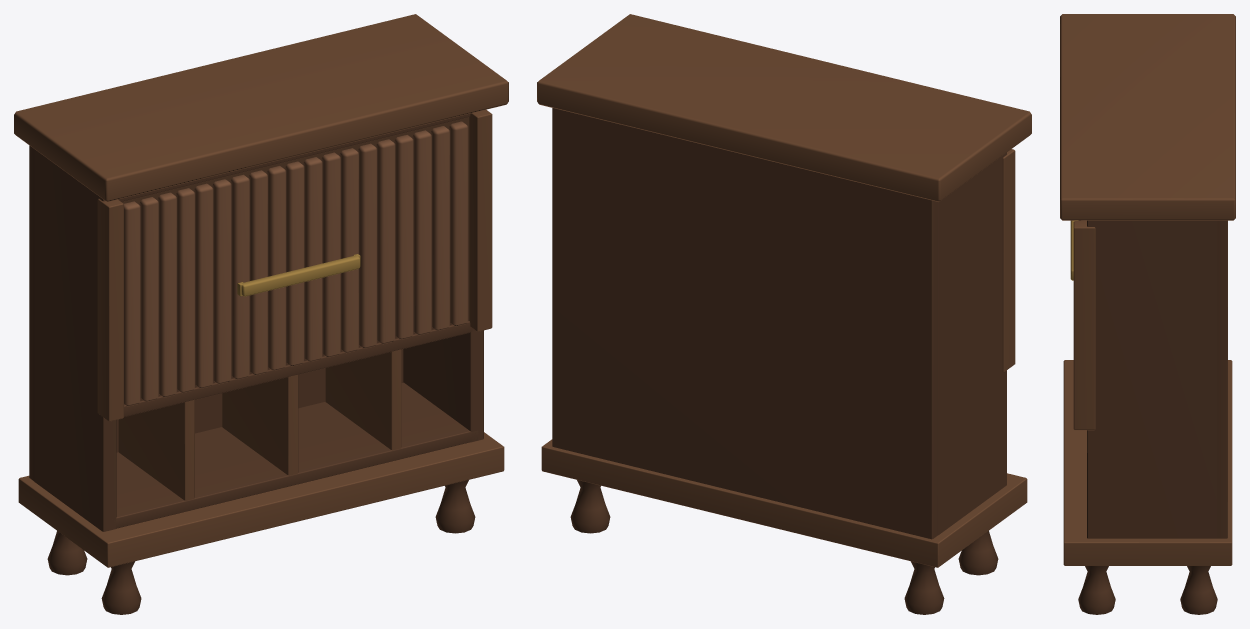
Rendered from rpg-mansion-tambour-music-01.glb.
3 views of the same model, side by side, from view 1: azimuth 30°, elevation 25°; view 2: azimuth 150°, elevation 25°; view 3: azimuth 270°, elevation 25° (orthographic). The views are drawn at different scales.
Parts seen in each view (by area): view 1: rpg-mansion-tambour-music-01; view 2: rpg-mansion-tambour-music-01; view 3: rpg-mansion-tambour-music-01.
Part boxes in pixels (left/top/right/bottom): rpg-mansion-tambour-music-01: left=14, top=14, right=508, bottom=614; rpg-mansion-tambour-music-01: left=537, top=14, right=1031, bottom=614; rpg-mansion-tambour-music-01: left=1060, top=14, right=1235, bottom=614.
Bounding box in the file's own units: 0.75 × 0.8 × 0.3.
